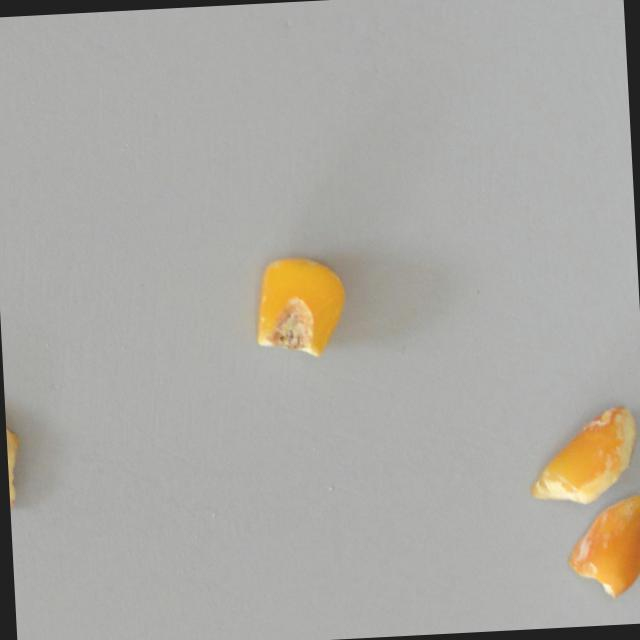dañado: (524, 402, 640, 512), (248, 252, 351, 362), (564, 494, 640, 603), (3, 392, 24, 515)
